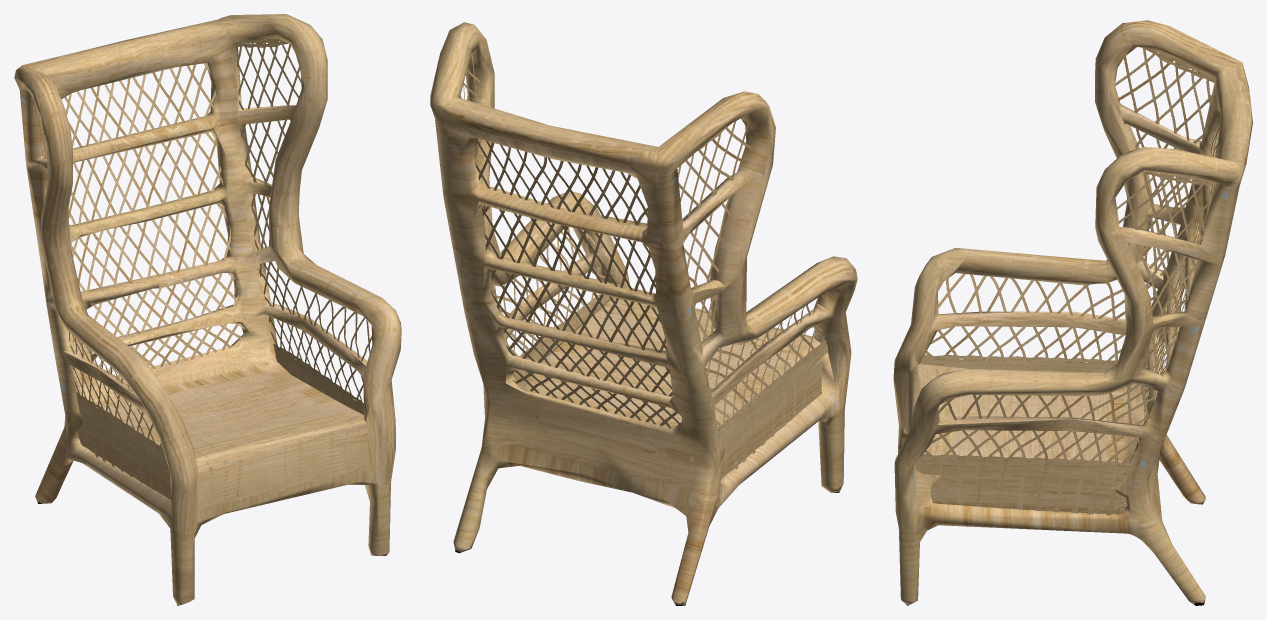
3 views of the same model, side by side, from view 1: azimuth 30°, elevation 25°; view 2: azimuth 150°, elevation 25°; view 3: azimuth 270°, elevation 25° (orthographic). The views are drawn at different scales.
Parts seen in each view (by area): view 1: ASY_ART_00503794_S01_NV01; view 2: ASY_ART_00503794_S01_NV01; view 3: ASY_ART_00503794_S01_NV01.
Part boxes in pixels (x1=…): ASY_ART_00503794_S01_NV01: x1=14, y1=14, x2=401, y2=605; ASY_ART_00503794_S01_NV01: x1=430, y1=22, x2=857, y2=605; ASY_ART_00503794_S01_NV01: x1=893, y1=20, x2=1252, y2=605.
Bounding box in the file's own units: 0.7676 × 1.18 × 0.8285.
Materials: 2 (2 with a texture image).
